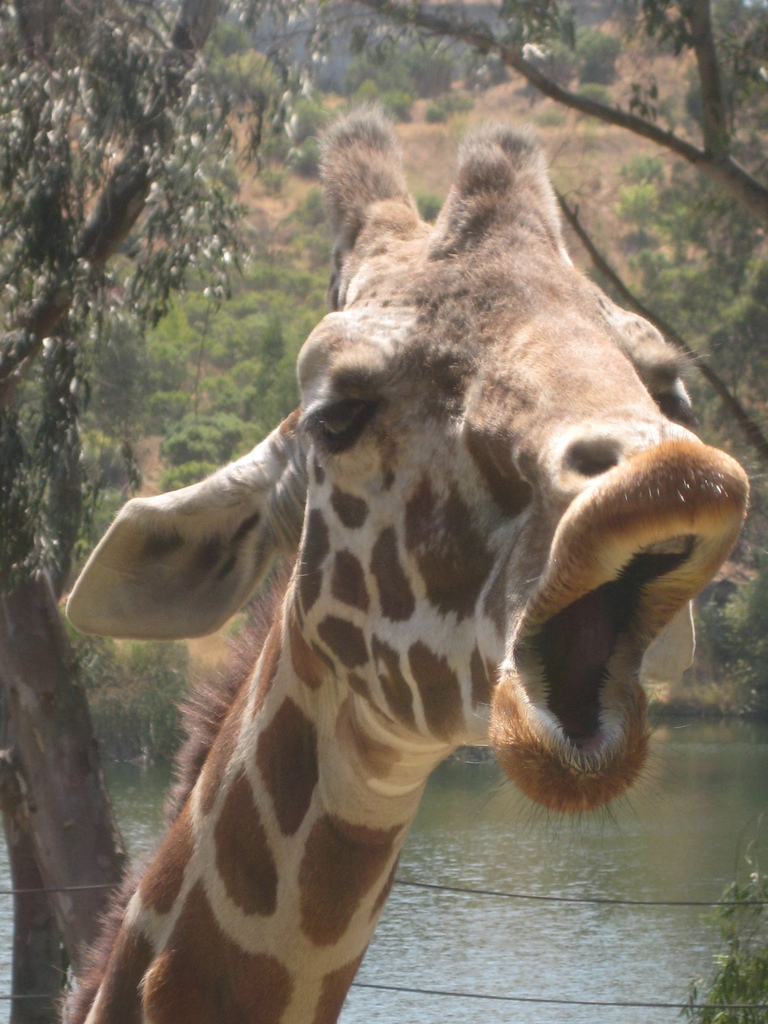giraffe: (115, 123, 707, 951)
